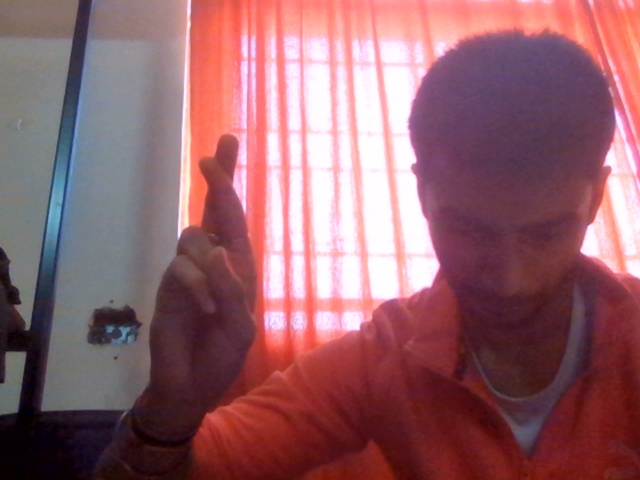R: (123, 118, 308, 431)
